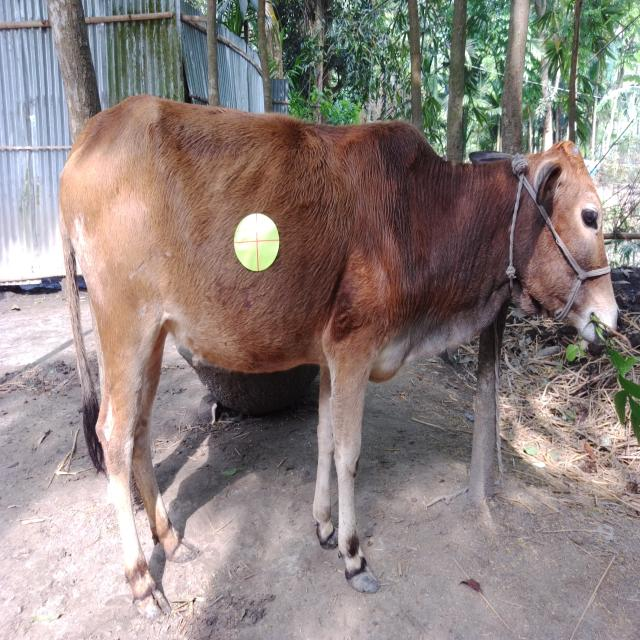badan_sapi: (60, 114, 417, 370)
sapi: (40, 78, 640, 628)
